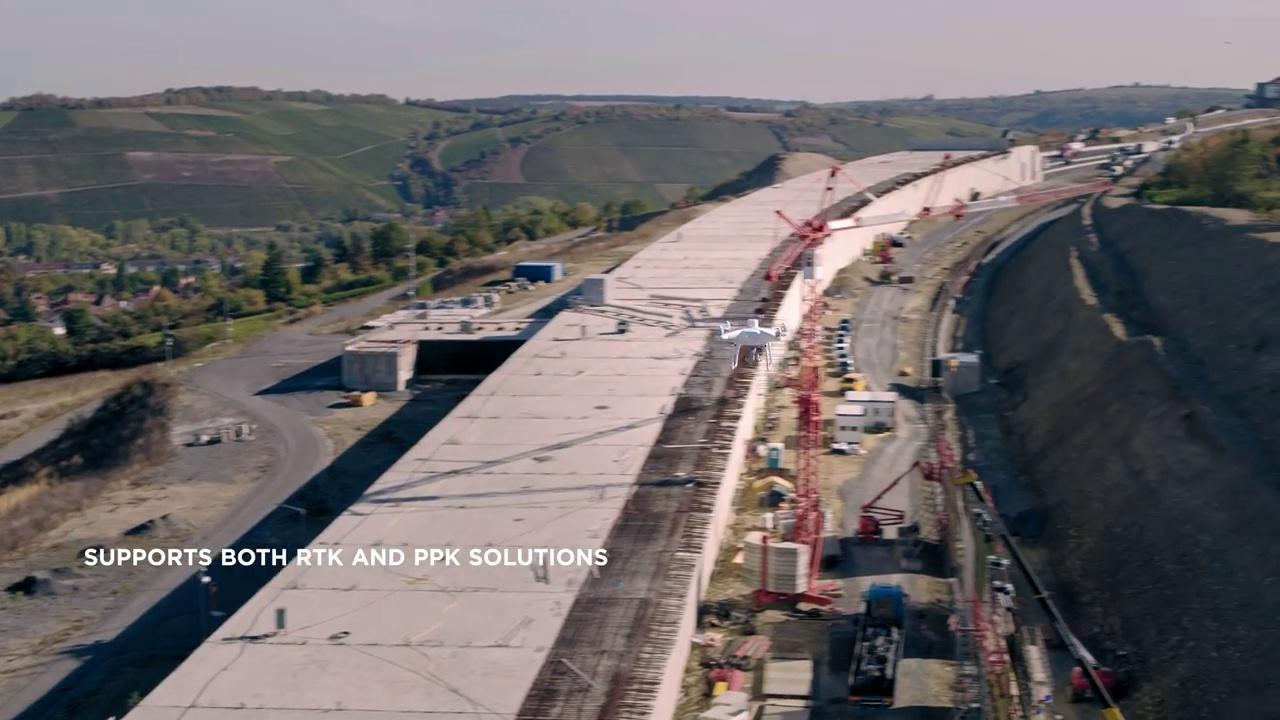drone: (713, 314, 790, 370)
